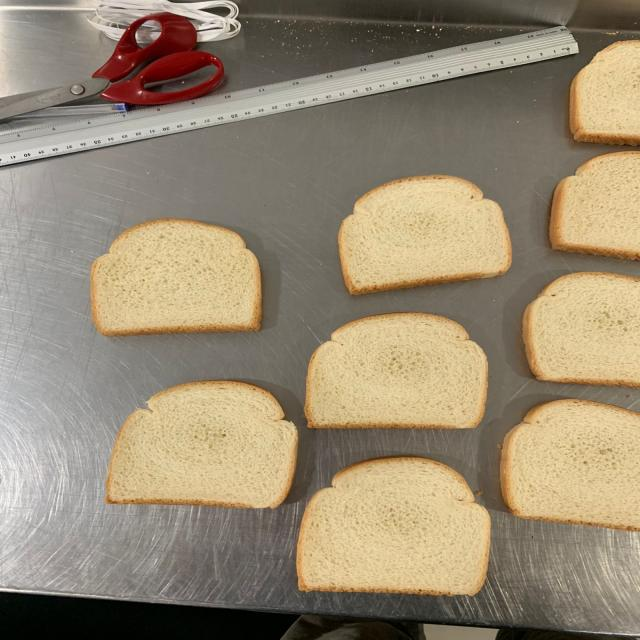pan: (295, 458, 491, 596), (107, 380, 300, 508), (303, 312, 489, 428), (337, 174, 513, 295), (90, 218, 262, 337)
